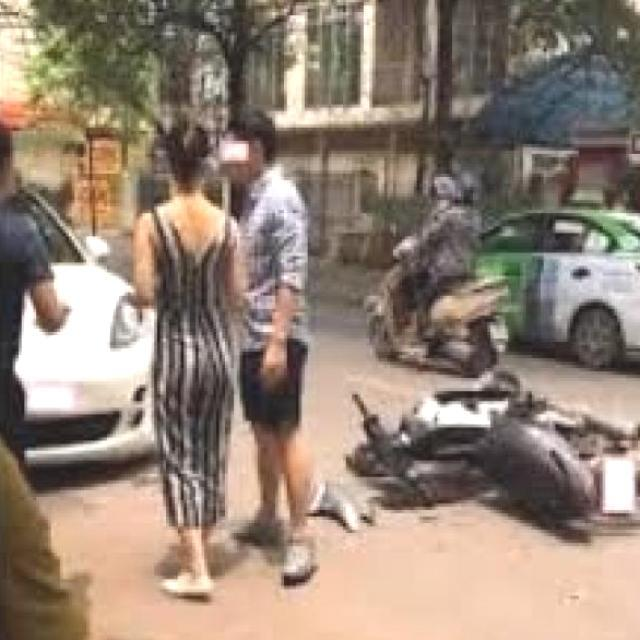accident: (326, 333, 640, 572)
